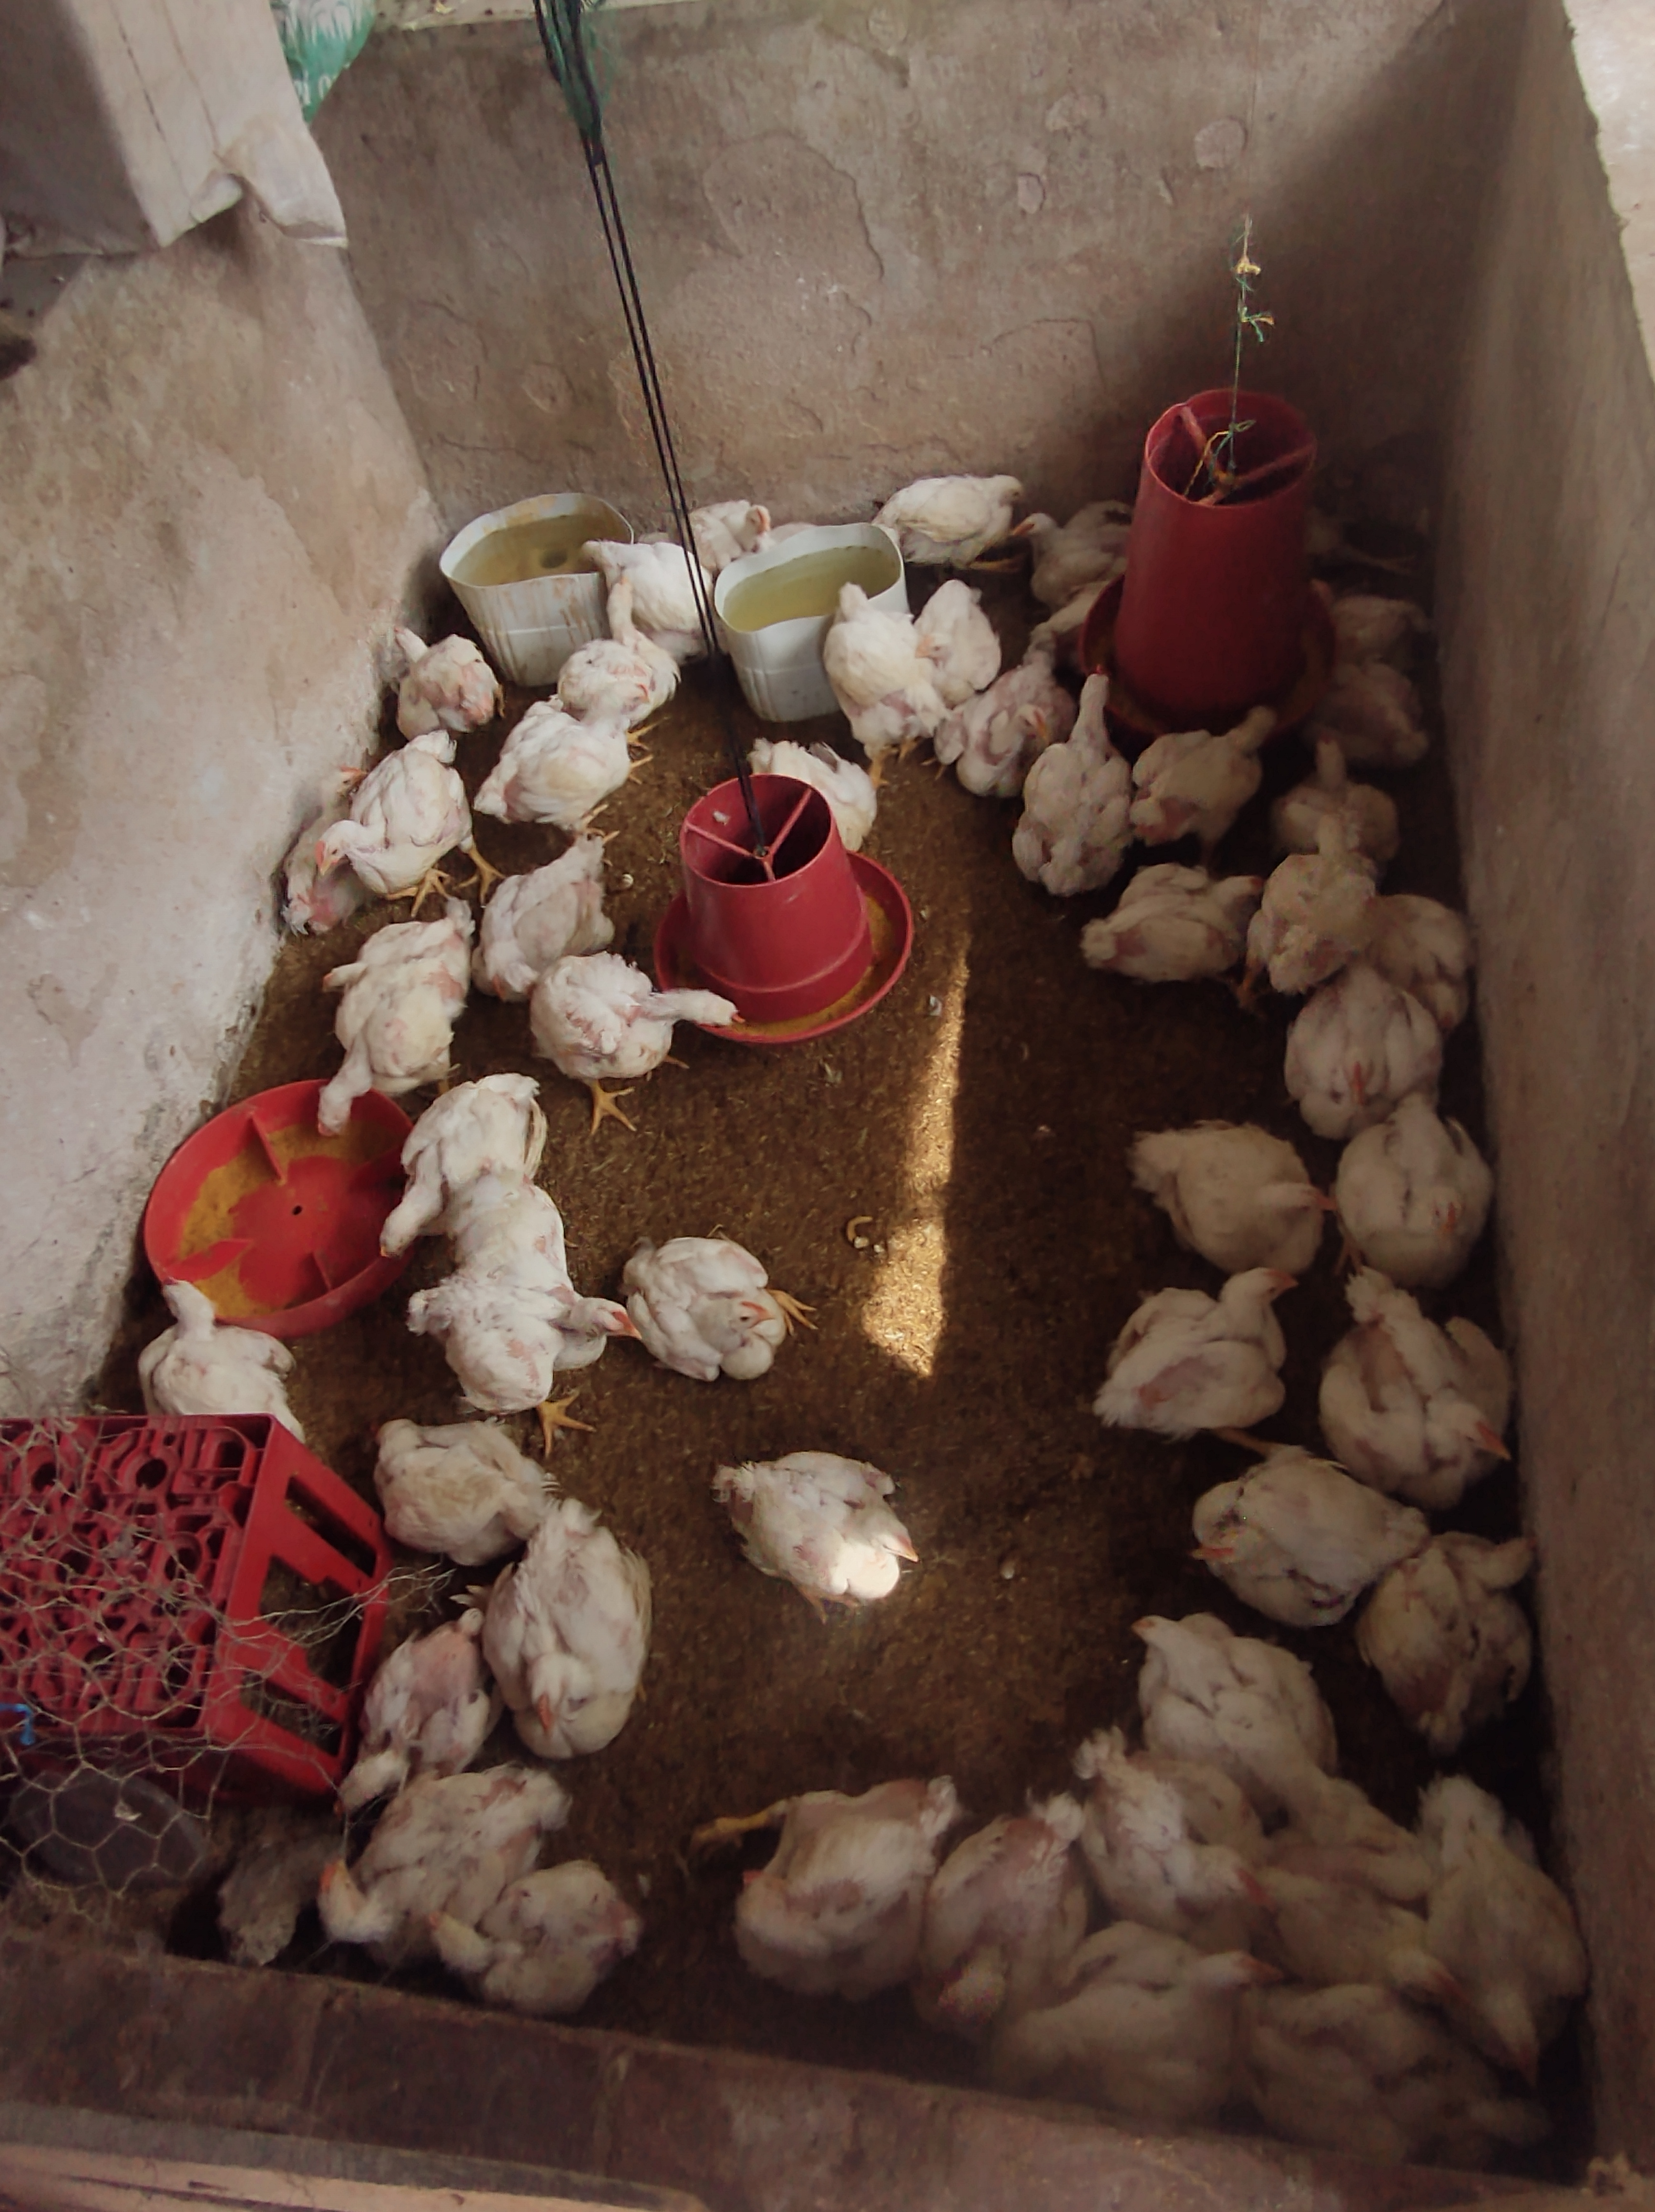Pollos: (1406, 1793, 1582, 2085), (727, 1769, 953, 1982), (1340, 1306, 1528, 1497), (1069, 1749, 1269, 1920), (438, 1861, 648, 2021), (1382, 1525, 1544, 1729), (1099, 1263, 1297, 1426), (421, 1259, 636, 1407), (1125, 1612, 1314, 1777), (308, 937, 462, 1137), (718, 1454, 923, 1603), (1067, 1953, 1283, 2094), (942, 1802, 1067, 2038), (362, 1417, 570, 1558), (485, 1560, 638, 1749), (325, 1624, 480, 1807), (384, 1078, 528, 1264), (1189, 1461, 1361, 1612), (483, 678, 652, 819), (539, 962, 744, 1073), (309, 734, 471, 875), (139, 1278, 301, 1416), (641, 1242, 794, 1379), (487, 836, 612, 991), (1173, 1139, 1337, 1257), (1351, 1129, 1485, 1273), (1047, 666, 1130, 890), (1093, 866, 1269, 972), (1300, 970, 1420, 1123), (1144, 704, 1286, 828), (1269, 810, 1366, 965), (892, 450, 1026, 562), (322, 1831, 435, 1949), (827, 581, 916, 729), (382, 619, 494, 722), (953, 682, 1060, 776), (586, 570, 678, 680), (1015, 506, 1127, 584), (918, 581, 998, 685), (680, 496, 775, 560), (302, 751, 367, 823)
